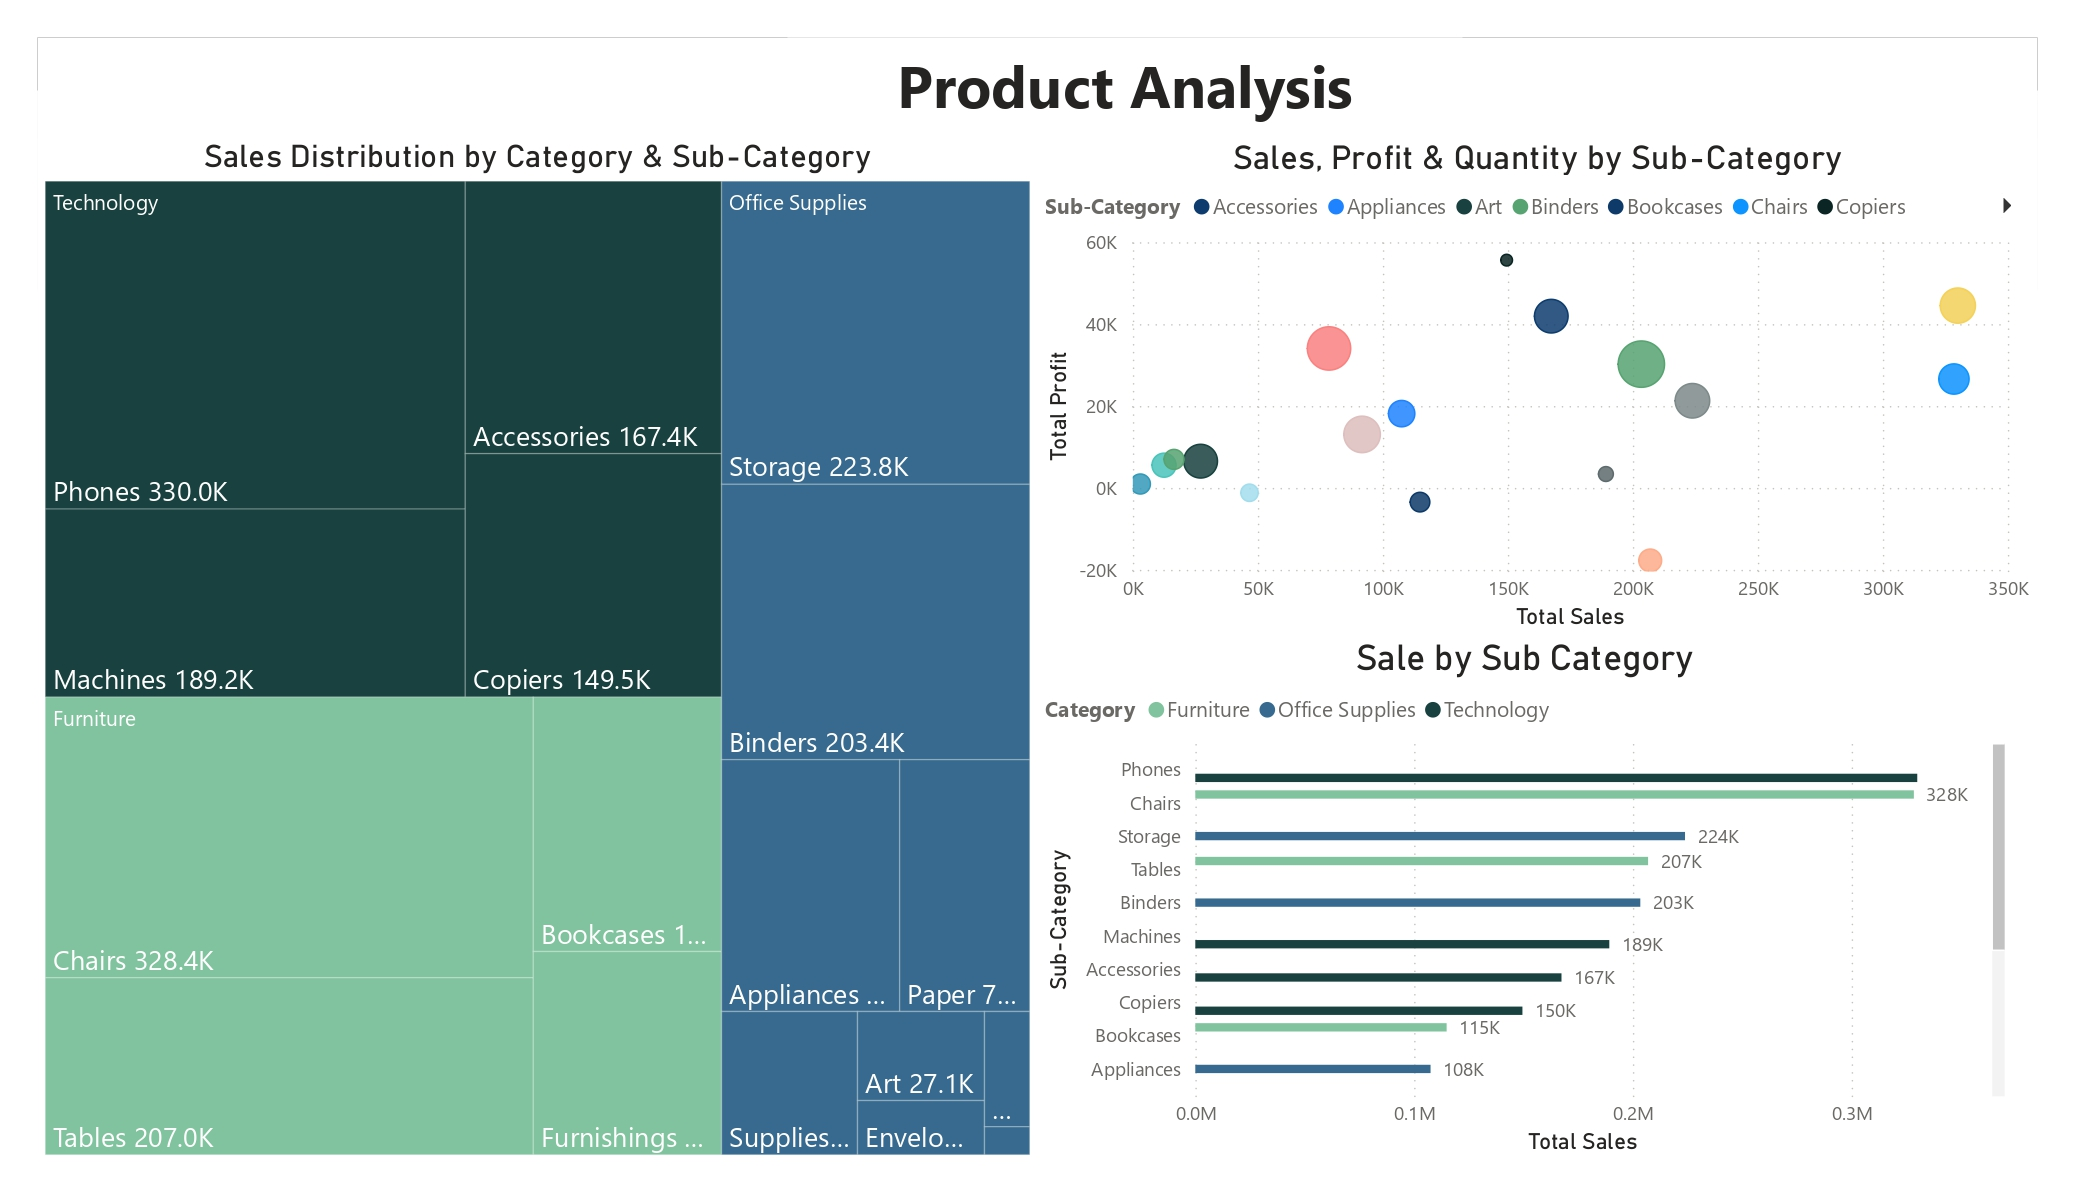

This screenshot's page, from the dashboard's own definition file:
{"tool":"powerbi","page":{"name":"Product Analysis","canvas":[1280,720],"ordinal":1},"visuals":[{"type":"clusteredBarChart","title":"Sale by Sub Category","fields":{"Category":["Superstore Dataset.Sub-Category"],"Y":["MeasuresTable.Total Sales"],"Series":["Superstore Dataset.Category"]},"box":[640,384,624,336],"z":0},{"type":"scatterChart","title":"Sales, Profit & Quantity by Sub-Category","fields":{"X":["MeasuresTable.Total Sales"],"Y":["MeasuresTable.Total Profit"],"Size":["MeasuresTable.Total Quantity"],"Series":["Superstore Dataset.Sub-Category"]},"box":[640,64,640,320],"z":1000},{"type":"treemap","title":"Sales Distribution by Category & Sub-Category","fields":{"Group":["Superstore Dataset.Category"],"Values":["MeasuresTable.Total Sales"],"Details":["Superstore Dataset.Sub-Category"]},"box":[0,64,640,656],"z":2000},{"type":"textbox","box":[480,0,432,64],"z":3000}]}

Visuals, with their boxes in screenshot pixels (x1, y1, x2, y2):
"Sale by Sub Category" clusteredBarChart: 1038,638,2012,1162
"Sales, Profit & Quantity by Sub-Category" scatterChart: 1038,138,2038,638
"Sales Distribution by Category & Sub-Category" treemap: 38,138,1038,1162
textbox: 788,38,1462,138
